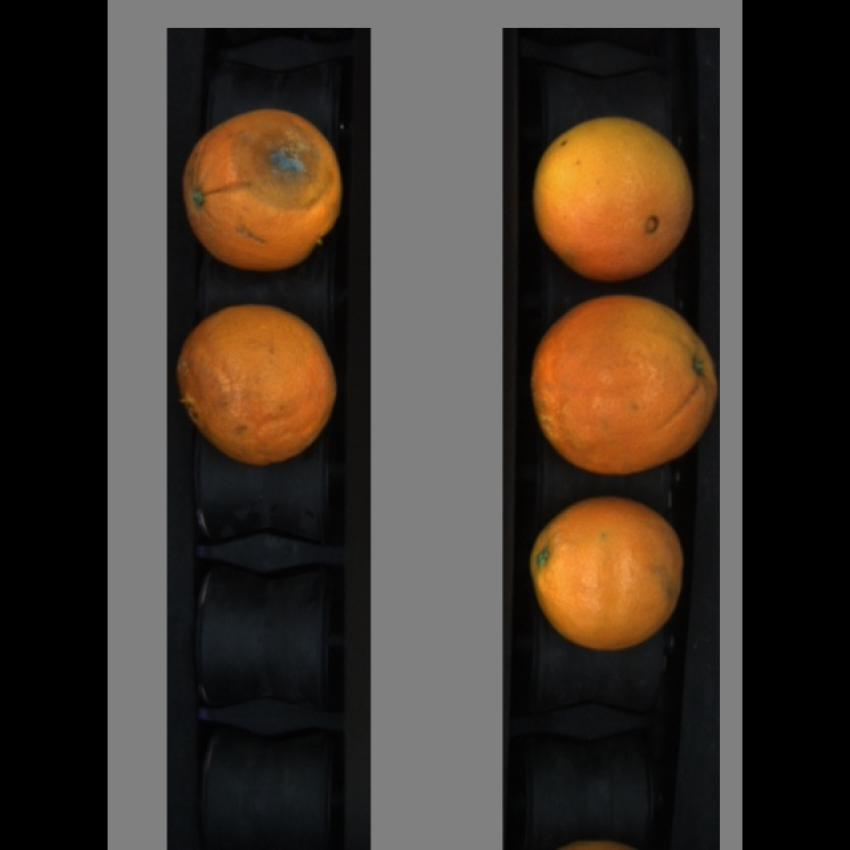Buen estado: (532, 113, 701, 276)
Mal estado: (531, 290, 720, 474), (177, 300, 336, 474), (528, 491, 690, 651), (185, 113, 340, 276)
